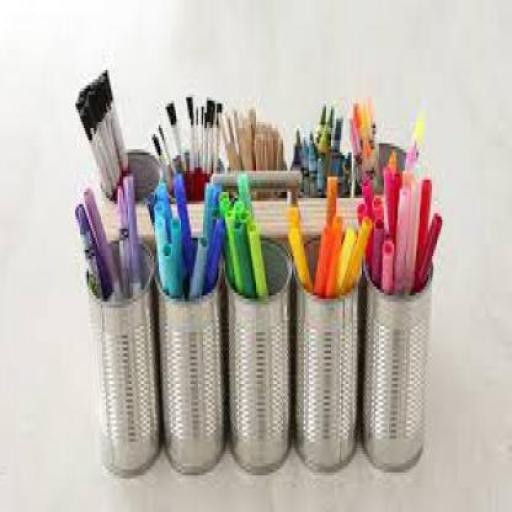metal: (96, 238, 160, 472), (360, 270, 434, 472), (230, 247, 292, 472), (161, 278, 227, 472), (296, 280, 360, 470)
